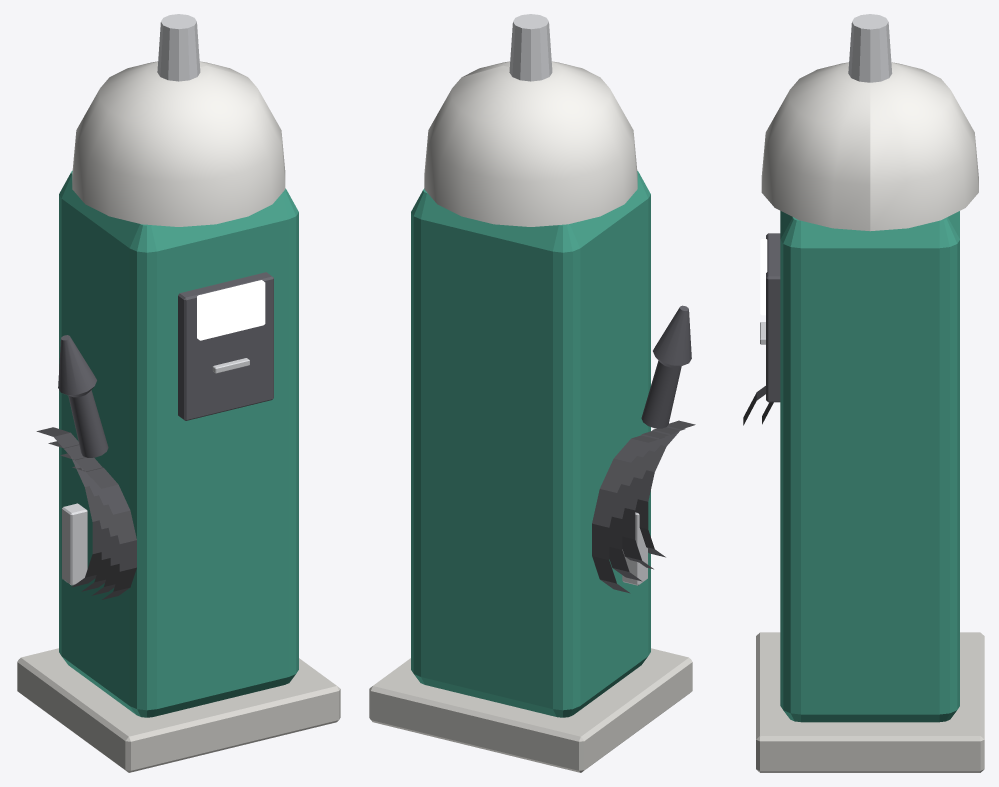
File: petrol-station-and-forecourt-shop-vacuum-unit-8a7f2e9c__33950.glb
3 views of the same model, side by side, from view 1: azimuth 30°, elevation 25°; view 2: azimuth 150°, elevation 25°; view 3: azimuth 270°, elevation 25° (orthographic).
Parts seen in each view (by area): view 1: vacuum-unit; view 2: vacuum-unit; view 3: vacuum-unit.
Part boxes in pixels (x1,y1,x2,y2): vacuum-unit: (17, 14, 340, 772); vacuum-unit: (369, 14, 695, 772); vacuum-unit: (743, 14, 984, 772).
Bounding box in the file's own units: 0.7079 × 1.89 × 0.5907.
